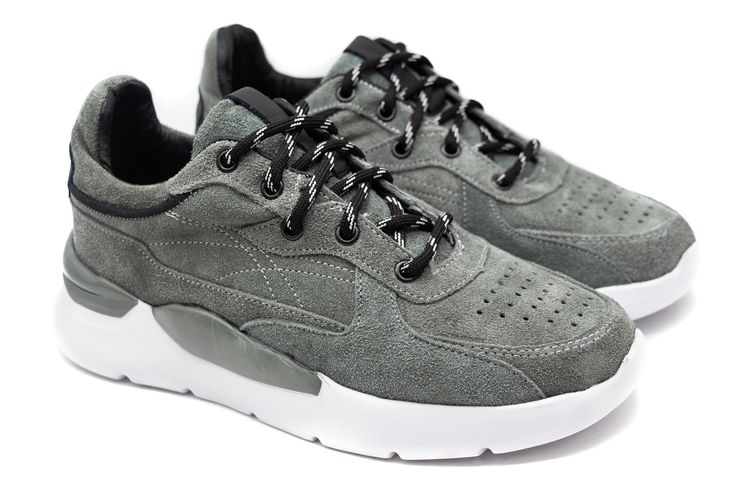gamuza: (59, 24, 697, 405)
